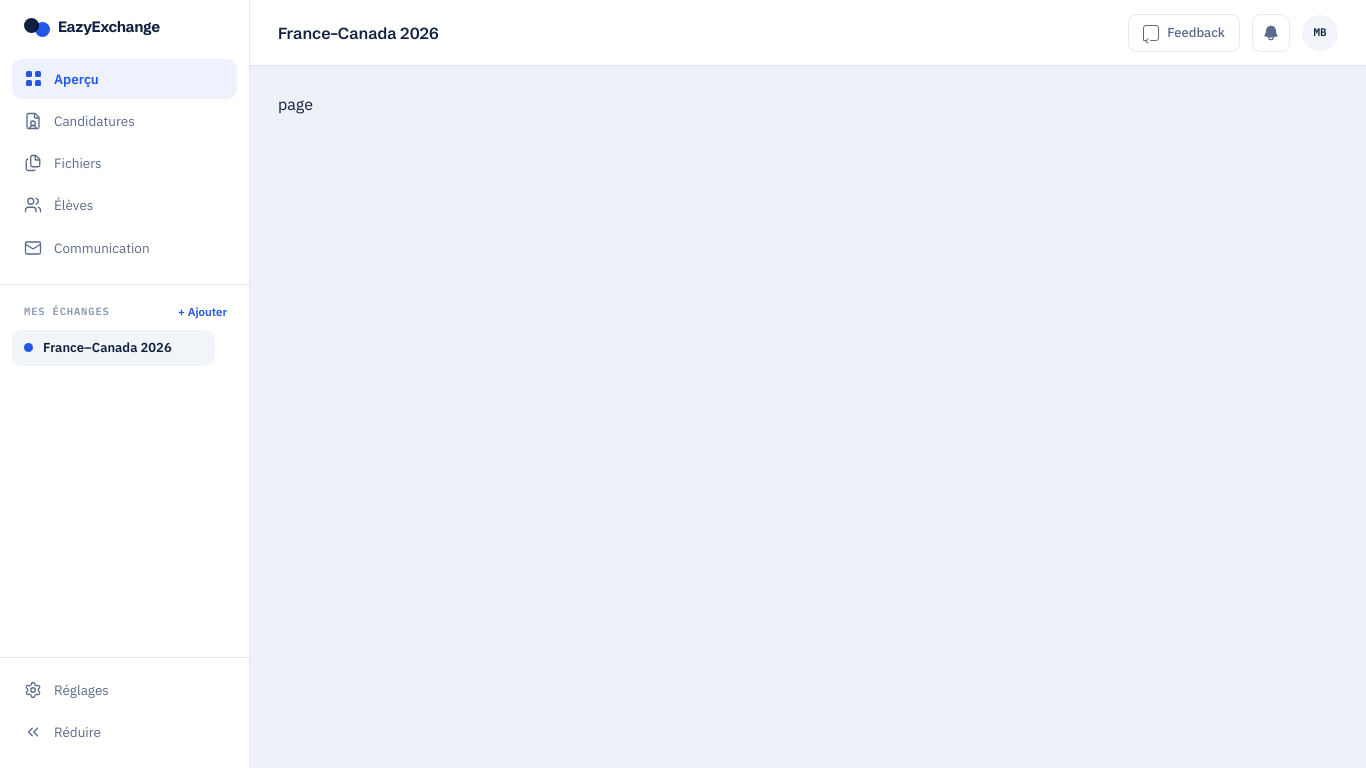
it: OrganizerShell › opening the bell closes the account menu
Click the button with aria-label "Compte": (1320, 32) [1302,14,1338,50]
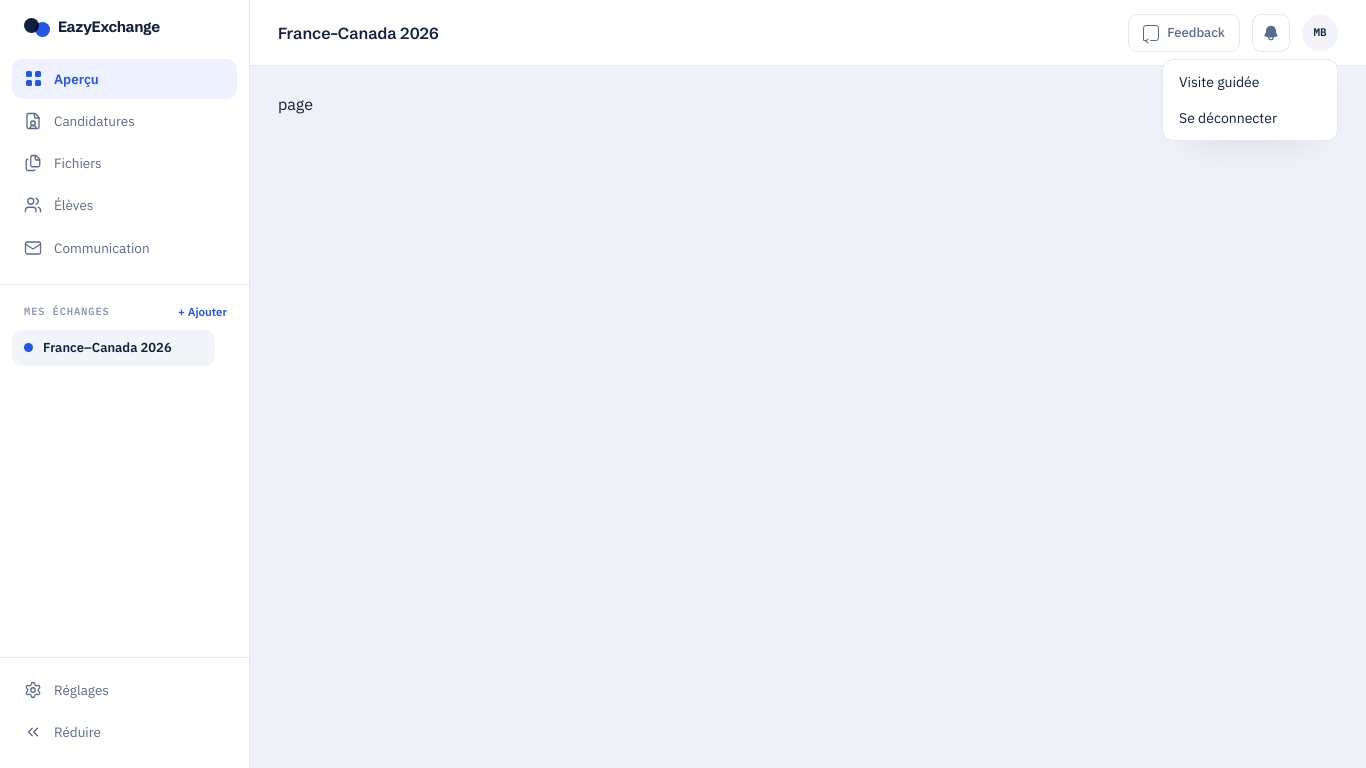
Now the button "Se déconnecter" is shown, box [1167,100,1333,136]
Click the button named "Notifications": (1271, 32) [1252,14,1290,52]
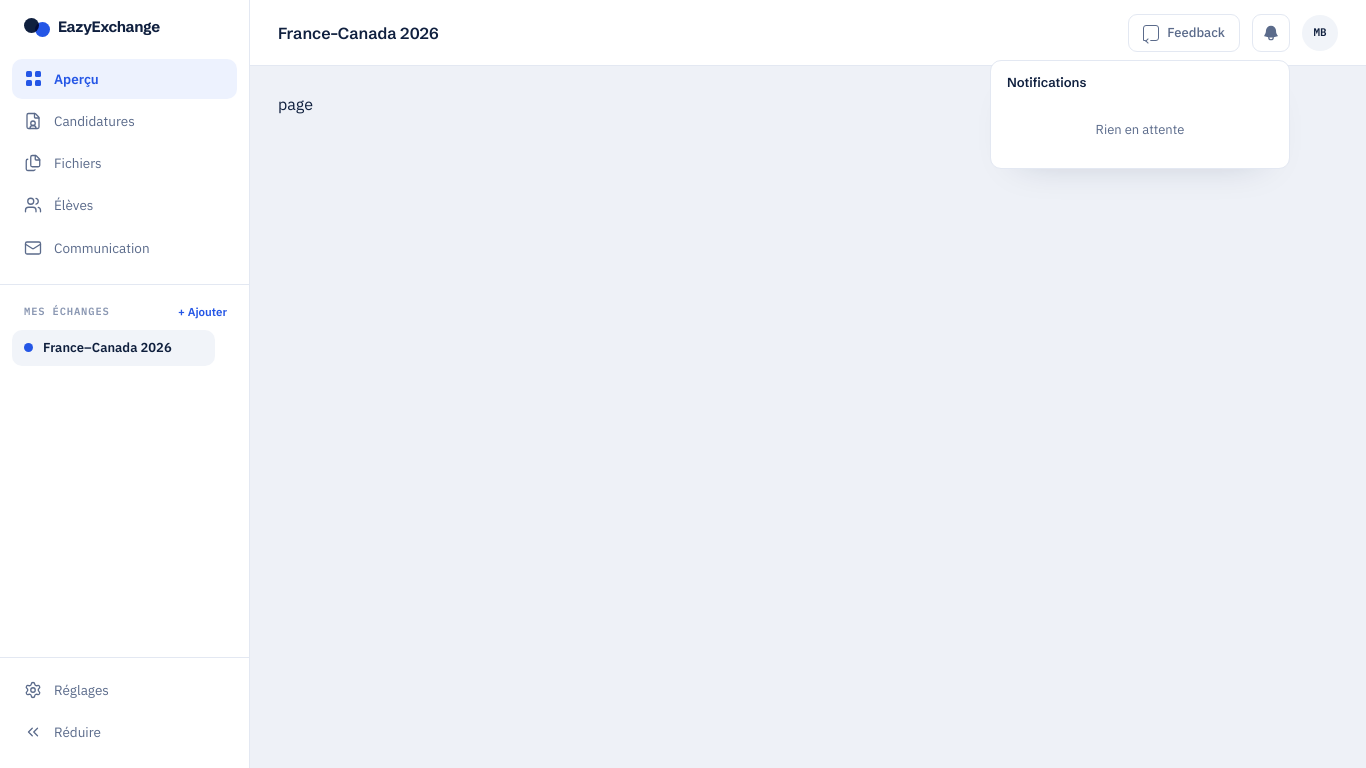
Now the button "Se déconnecter" is gone
